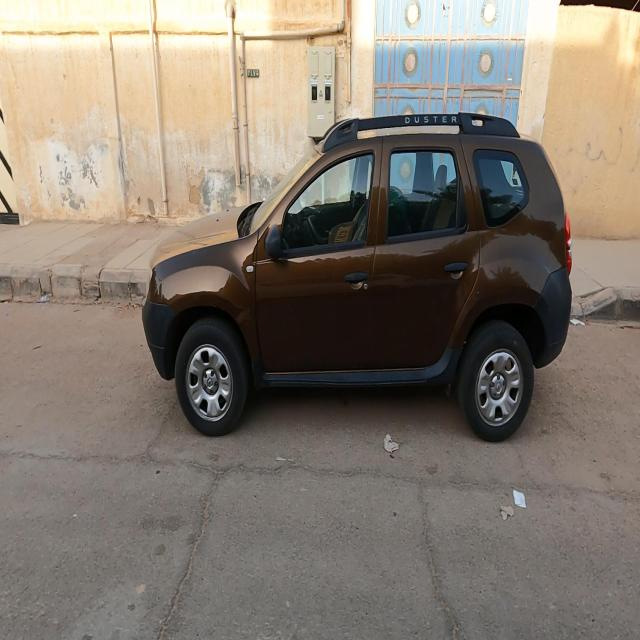Graffiti: (551, 122, 640, 177)
